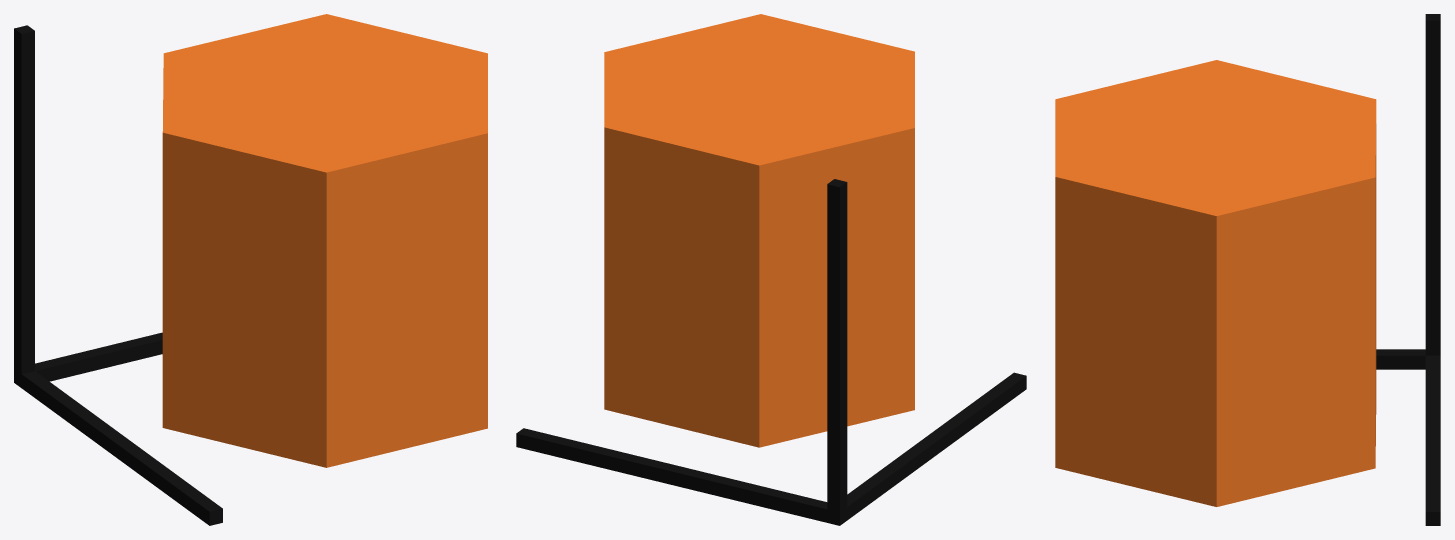
The model's file is prisma.fbx.
3 renders of one model, left to right at view 1: azimuth 30°, elevation 25°; view 2: azimuth 150°, elevation 25°; view 3: azimuth 270°, elevation 25°, orthographic. The views are drawn at different scales.
Parts seen in each view (by area): view 1: Mesh_1.001, Mesh_0.001; view 2: Mesh_1.001, Mesh_0.001; view 3: Mesh_1.001, Mesh_0.001.
Boxes of the visible parts, x1,y1,x2,y2 form: Mesh_1.001: (162, 14, 487, 467); Mesh_0.001: (14, 25, 222, 525); Mesh_1.001: (604, 14, 914, 447); Mesh_0.001: (516, 179, 1026, 525); Mesh_1.001: (1055, 60, 1376, 506); Mesh_0.001: (1376, 14, 1440, 525).
Bounding box in the file's own units: 6.38 × 6 × 6.
